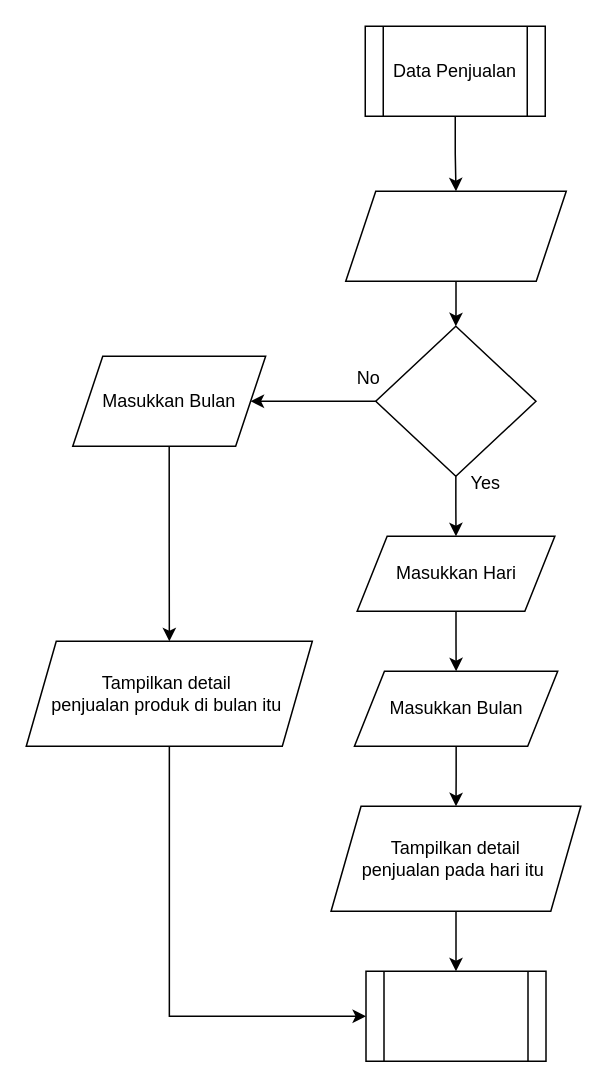
Some shapes in this 608 by 1088 pixel diagram are drawn without their labels. The shapes that lost their labels are listed below. From the top down, each one's centre as x and y in pixels, then its label:
At pixel 455 235: "Input Cara menampilkan data?".
At pixel 455 400: "Berdasarkan Hari?".
At pixel 455 1015: "Menu Utama".
